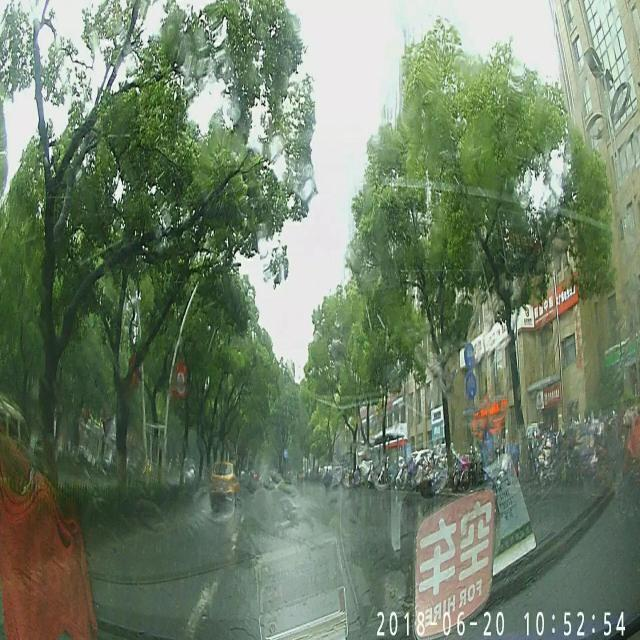car: (209, 461, 237, 504)
